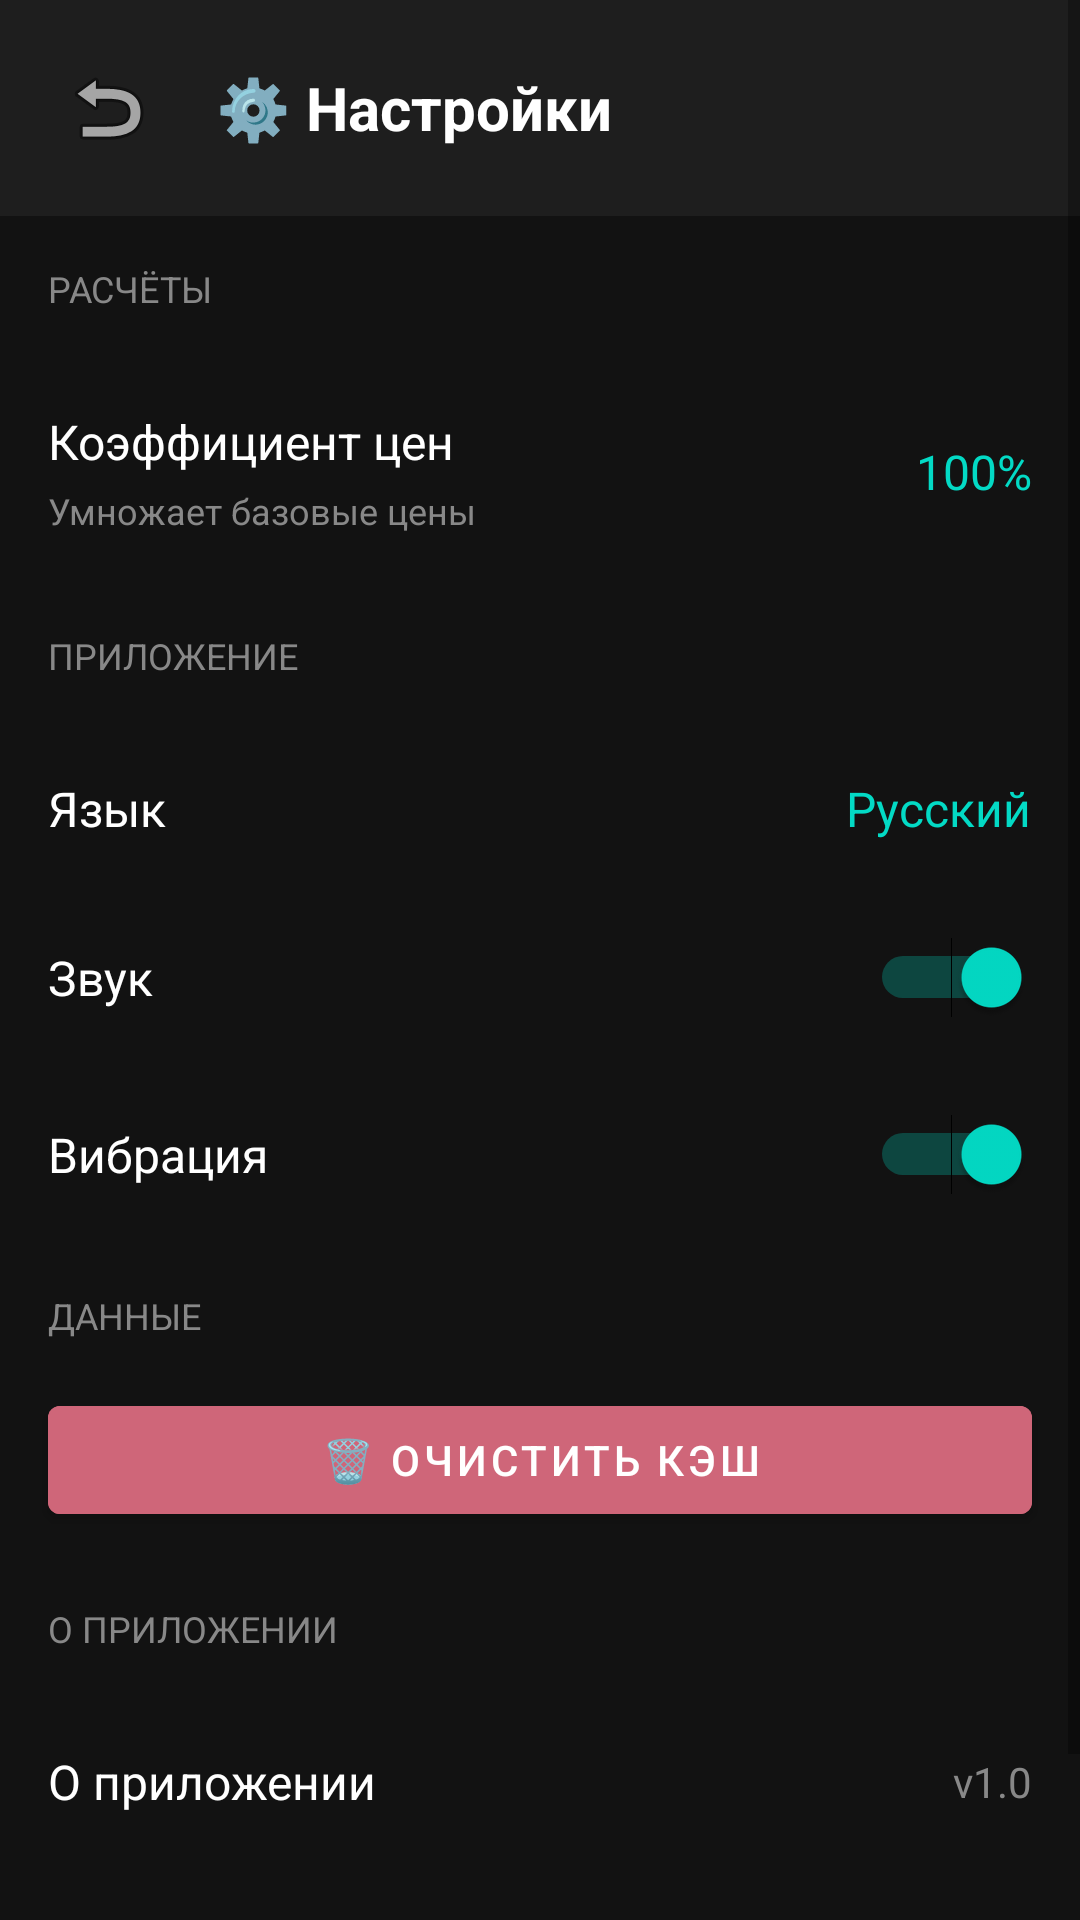

Icon click points for this 1080*1920 phone screenshot, format point (x, y):
Назад: point (109, 108)
